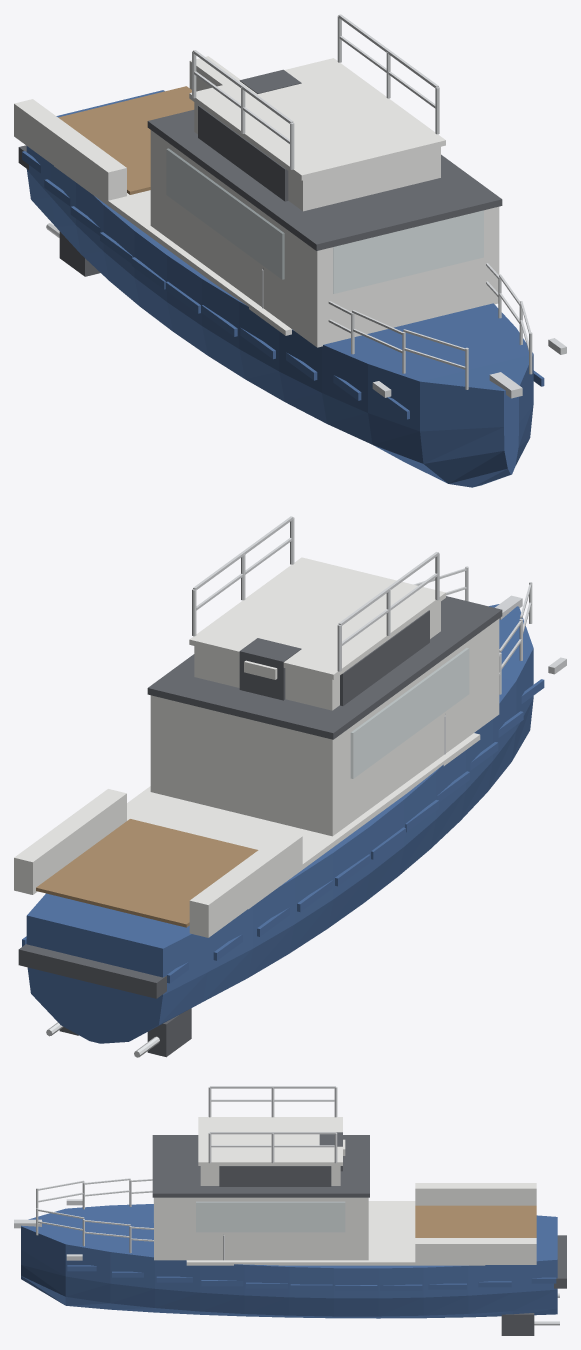
The model's file is PortCruiserNavy.glb.
3 views of the same model, one above another, from view 1: azimuth 30°, elevation 25°; view 2: azimuth 150°, elevation 25°; view 3: azimuth 270°, elevation 25° (orthographic). The views are drawn at different scales.
Parts seen in each view (by area): view 1: marina-and-yacht-club-motor-cruiser-hull-navy; view 2: marina-and-yacht-club-motor-cruiser-hull-navy; view 3: marina-and-yacht-club-motor-cruiser-hull-navy.
Boxes of the visible parts, x1,y1,x2,y2 form: marina-and-yacht-club-motor-cruiser-hull-navy: (14, 14, 566, 487); marina-and-yacht-club-motor-cruiser-hull-navy: (14, 516, 566, 1057); marina-and-yacht-club-motor-cruiser-hull-navy: (14, 1086, 566, 1335).
Size of the model in its own units: 2.52 by 3.77 by 9.
